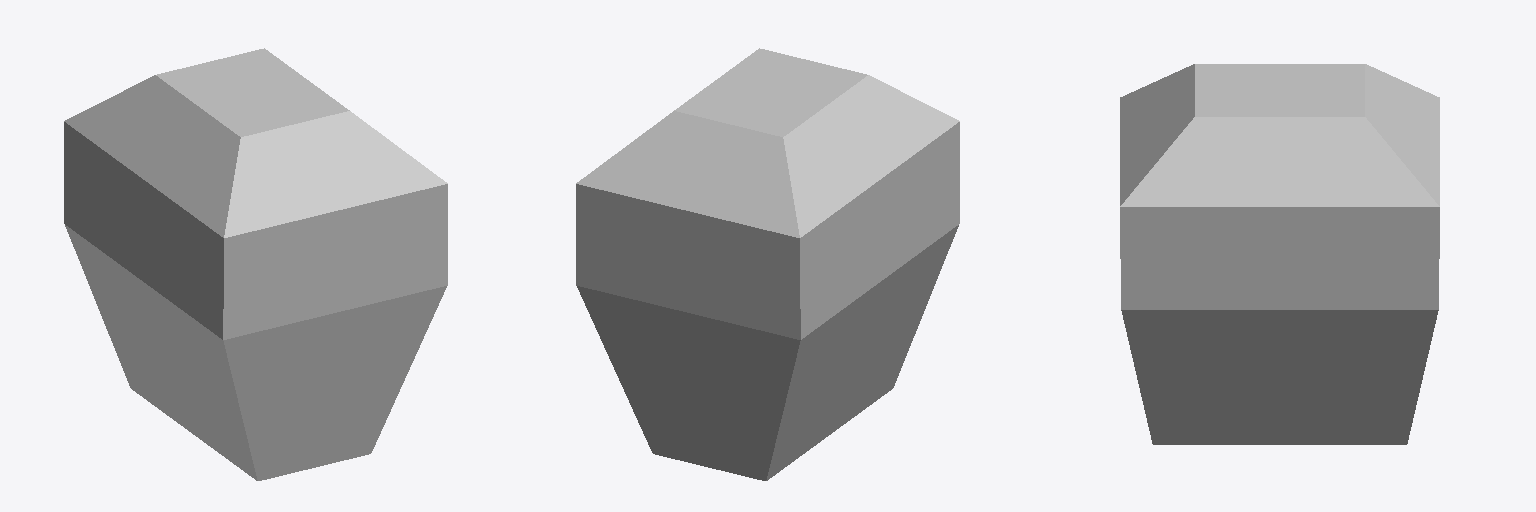
The model's file is helicoptero_1.2.obj.
3 views of the same model, side by side, from view 1: azimuth 30°, elevation 25°; view 2: azimuth 150°, elevation 25°; view 3: azimuth 270°, elevation 25° (orthographic).
Visible parts, largest first — view 1: Cube; view 2: Cube; view 3: Cube.
Part boxes in pixels (x1,y1,x2,y2): Cube: (64, 48, 447, 480); Cube: (576, 48, 959, 480); Cube: (1120, 64, 1439, 444).
Bounding box in the file's own units: 0.39 × 0.5451 × 0.4825.